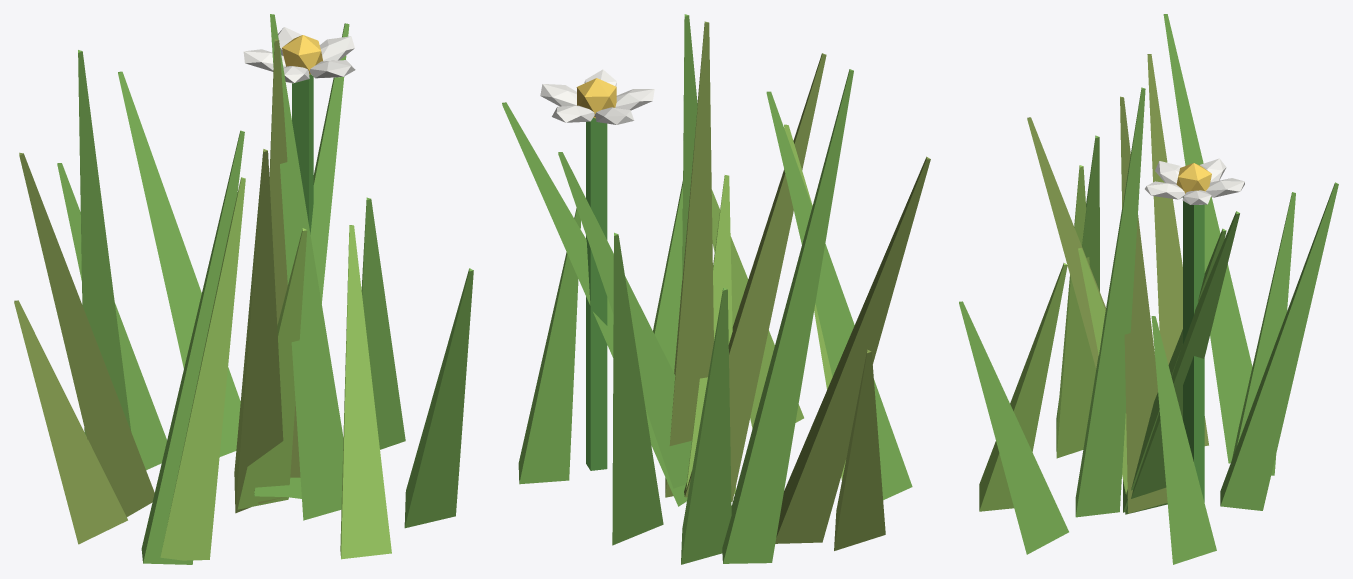
The model's file is grass_tuft.glb.
3 views of the same model, side by side, from view 1: azimuth 30°, elevation 25°; view 2: azimuth 150°, elevation 25°; view 3: azimuth 270°, elevation 25° (orthographic). The views are drawn at different scales.
Visible parts, largest first — view 1: Grass Tuft; view 2: Grass Tuft; view 3: Grass Tuft.
Boxes of the visible parts, <box> form: Grass Tuft: <box>14,14,473,564</box>; Grass Tuft: <box>502,14,930,564</box>; Grass Tuft: <box>959,14,1338,564</box>.
Size of the model in its own units: 0.2982 by 0.3453 by 0.2823.
Materials: 1 (1 with a texture image).
